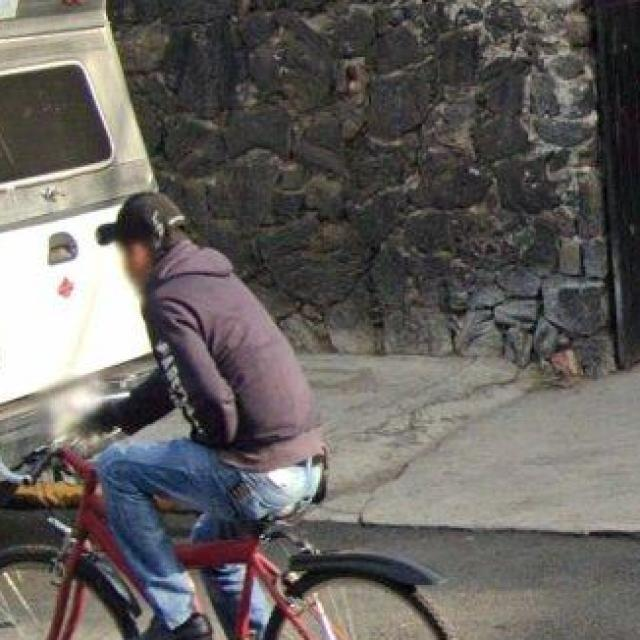bicycle: (182, 525, 459, 640), (1, 447, 146, 640)
